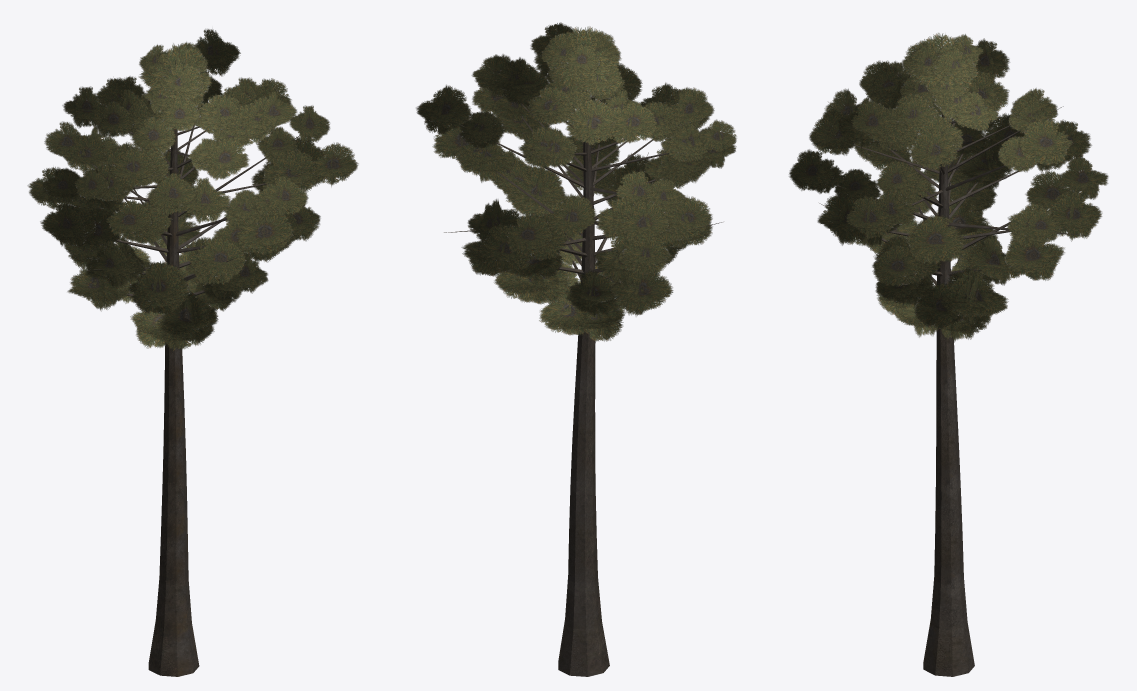
File: pine_b.glb
3 views of the same model, side by side, from view 1: azimuth 30°, elevation 25°; view 2: azimuth 150°, elevation 25°; view 3: azimuth 270°, elevation 25° (orthographic). The views are drawn at different scales.
Parts seen in each view (by area): view 1: Foliage, Trunk, Branches; view 2: Foliage, Trunk, Branches; view 3: Foliage, Trunk, Branches.
Part boxes in pixels (x1,y1,x2,y2): Foliage: (27, 29, 358, 351); Trunk: (148, 60, 199, 676); Branches: (83, 68, 299, 296); Foliage: (416, 22, 736, 341); Trunk: (558, 91, 609, 676); Branches: (444, 95, 722, 286); Foliage: (789, 33, 1108, 342); Trunk: (923, 112, 974, 676); Branches: (819, 102, 1087, 300).
Bounding box in the file's own units: 6.5 × 12.88 × 6.37.
3 materials, 3 textured.
